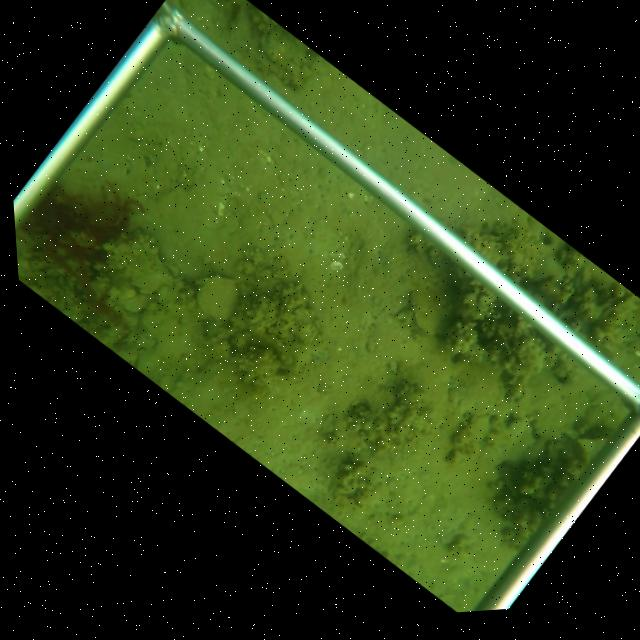Oyster-Closed: (231, 329, 297, 374), (194, 272, 240, 326)
Oyster-Indeterminate: (106, 229, 182, 297), (408, 287, 458, 340)
Oyster-Open: (599, 290, 636, 321)
